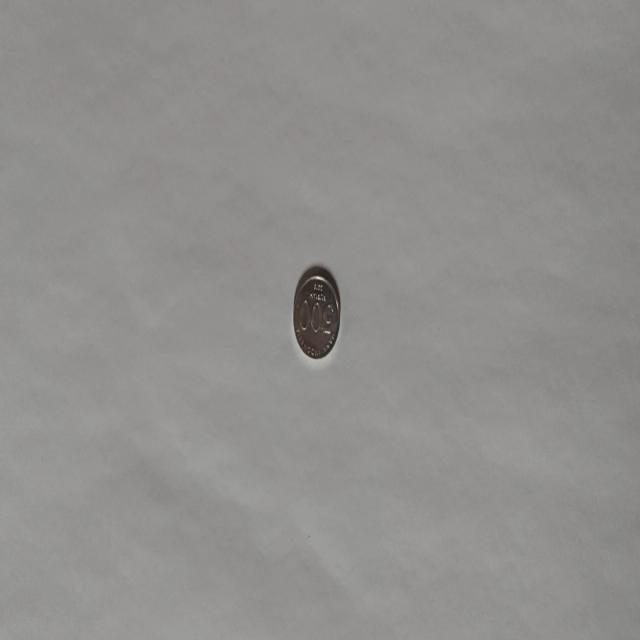lima ratus rupiah: (292, 265, 341, 360)
